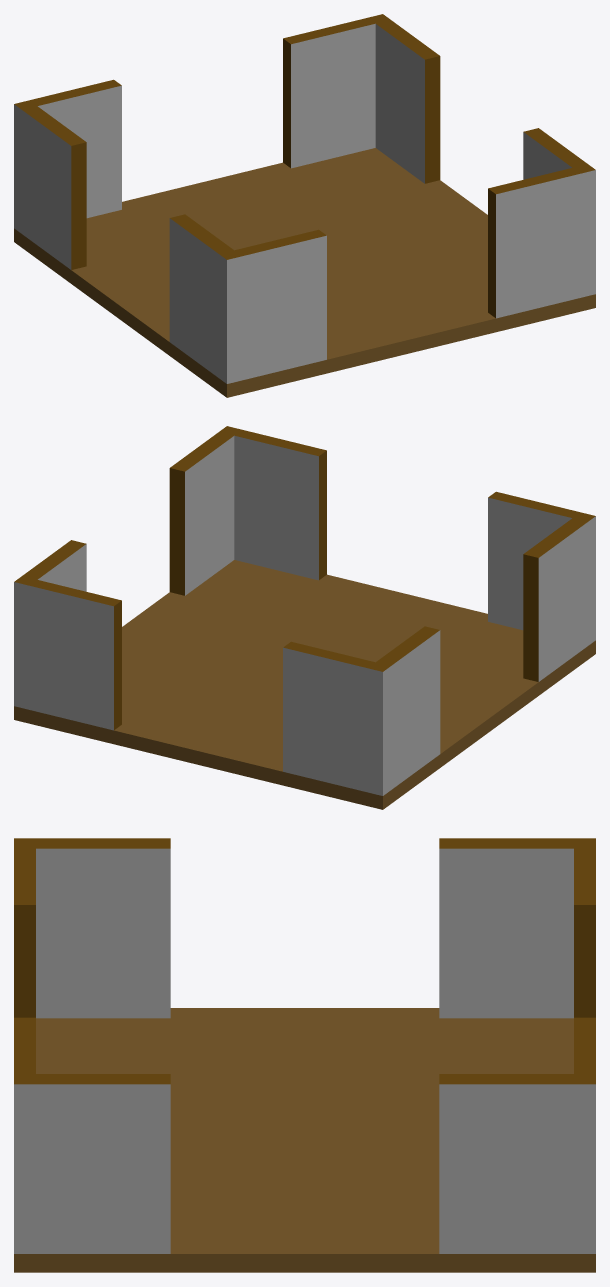
Rendered from floor_section-01.fbx.
3 renders of one model, top to bottom at view 1: azimuth 30°, elevation 25°; view 2: azimuth 150°, elevation 25°; view 3: azimuth 270°, elevation 25°, orthographic. The views are drawn at different scales.
Visible parts, largest first — view 1: Plane.001; view 2: Plane.001; view 3: Plane.001.
Part boxes in pixels (<box>): Plane.001: <box>14,14,595,397</box>; Plane.001: <box>14,426,595,809</box>; Plane.001: <box>14,838,595,1272</box>.
Bounding box in the file's own units: 600 × 214 × 600.
